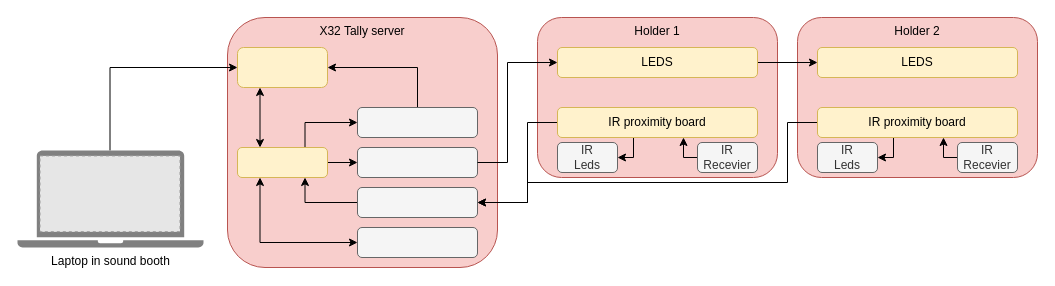
Image size: 1055x286. Some labels were removed from this diagram. Grey dashed boxes stand in for pictures. The shapes that lost their labels are listed below. From the top down, each one's centre as x and y in pixels, then its label:
At point (282, 67): "Caddy webserver".
At point (417, 122): "WebUI Module".
At point (282, 162): "MQTT Server".
At point (417, 162): "Tally light Module".
At point (417, 202): "On Stand detection Module".
At point (417, 242): "X32 OSC Module".
